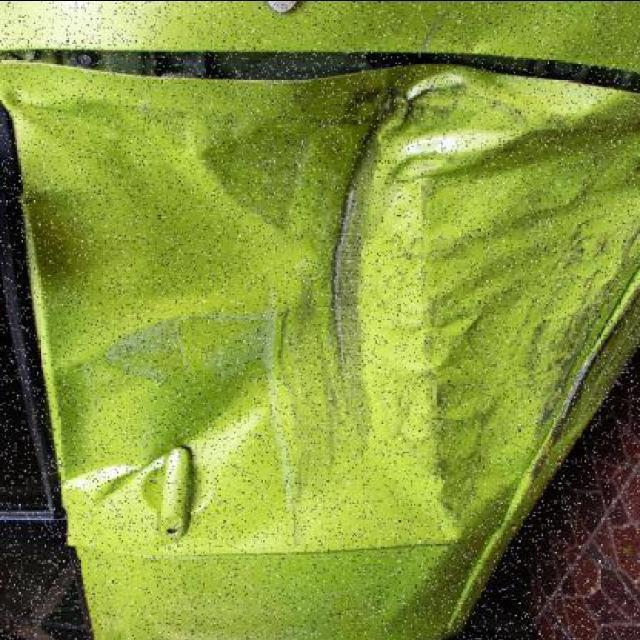doorouter-dent: (20, 39, 630, 548)
